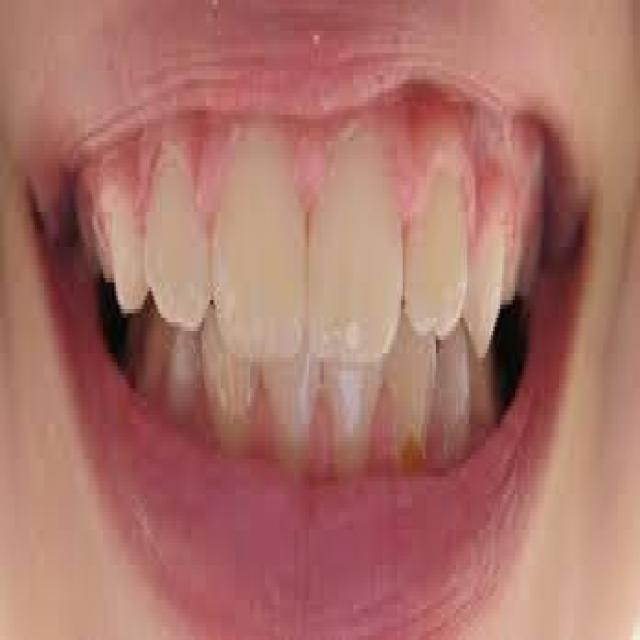tooth: (309, 137, 408, 362), (217, 128, 305, 358), (149, 146, 213, 331), (76, 168, 146, 313), (401, 168, 465, 326), (469, 216, 504, 375), (390, 327, 443, 428), (261, 362, 318, 446), (206, 336, 252, 428), (329, 358, 386, 432), (436, 326, 469, 424)
